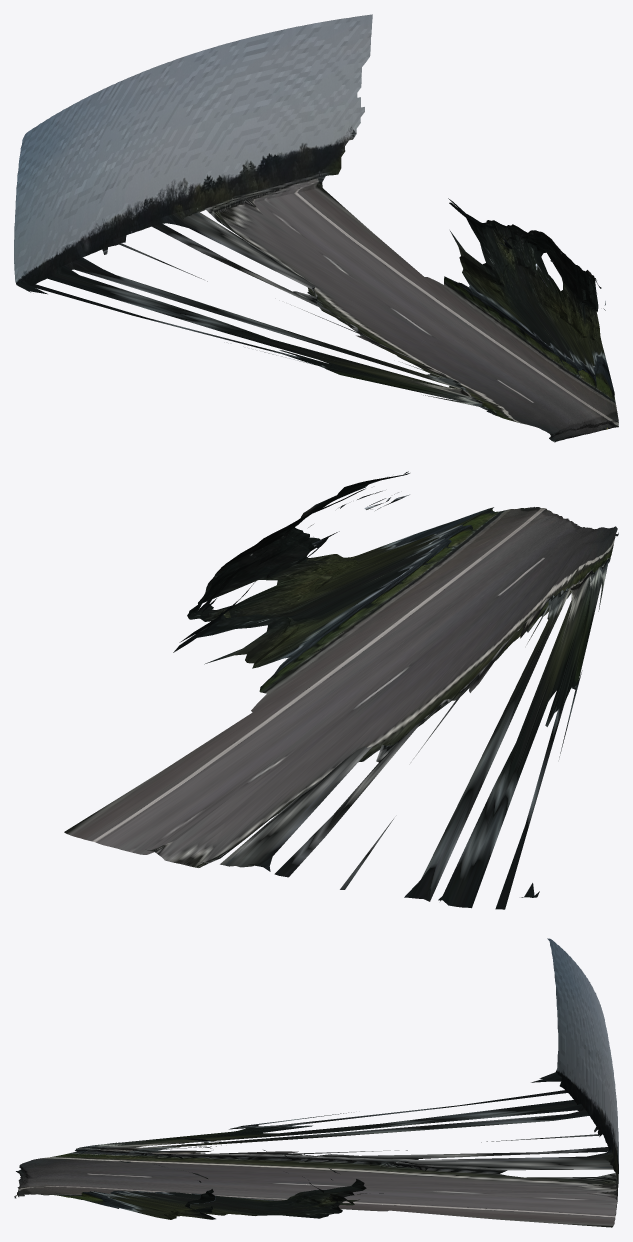
3 views of the same model, one above another, from view 1: azimuth 30°, elevation 25°; view 2: azimuth 150°, elevation 25°; view 3: azimuth 270°, elevation 25° (orthographic). The views are drawn at different scales.
Visible parts, largest first — view 1: defaultobject; view 2: defaultobject; view 3: defaultobject.
Boxes of the visible parts, left/top/right/bottom form: defaultobject: left=14, top=14, right=618, bottom=442; defaultobject: left=64, top=471, right=618, bottom=909; defaultobject: left=14, top=938, right=618, bottom=1227.
Size of the model in its own units: 30.23 by 12.8 by 44.49.
1 material, 1 textured.
